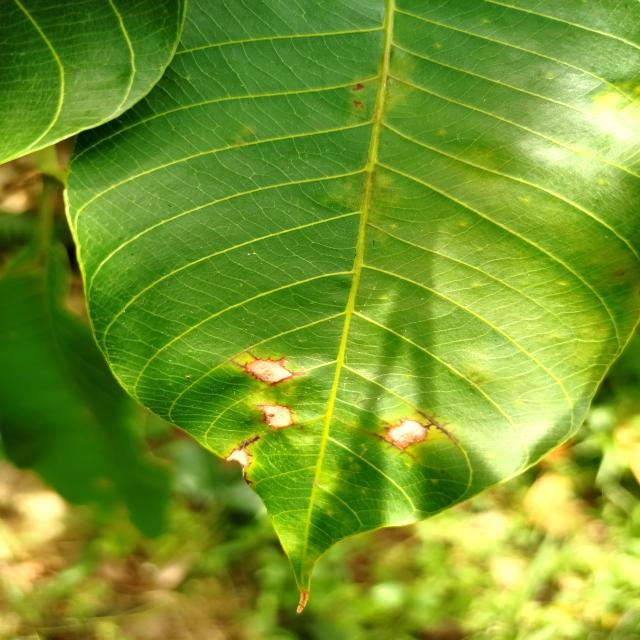Corynespora: (416, 410, 460, 445), (368, 432, 417, 461), (228, 360, 251, 373), (244, 350, 260, 362)
Leaf-Blight: (385, 419, 428, 448), (247, 360, 291, 382), (263, 404, 293, 428), (227, 450, 249, 476)
